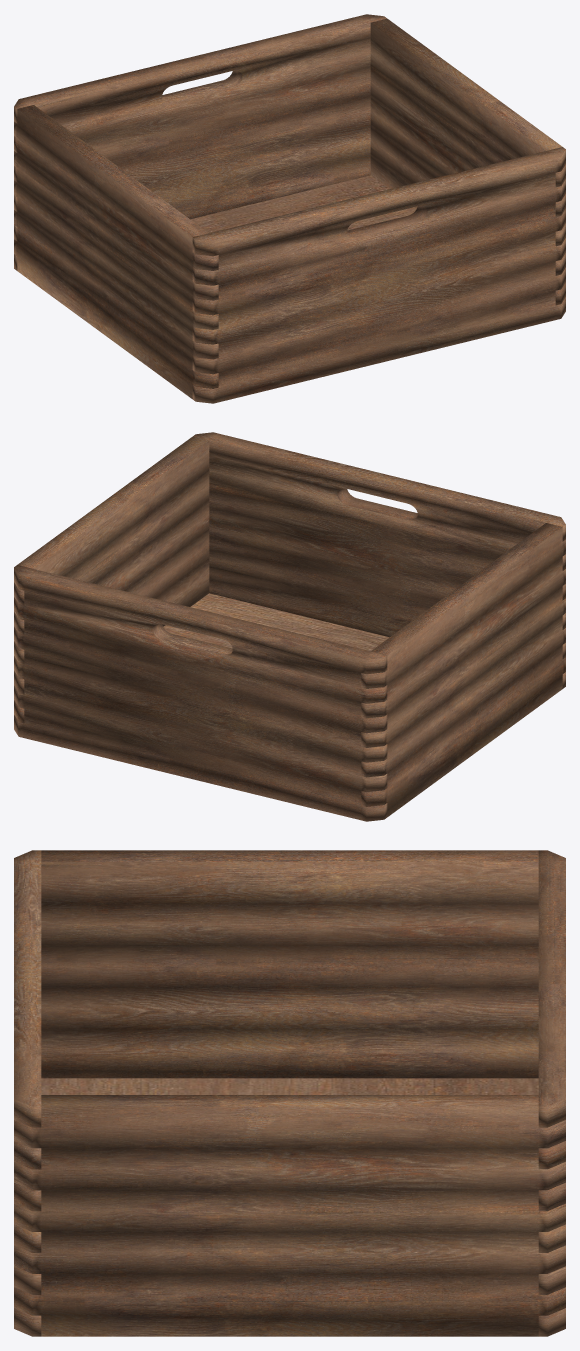
3 renders of one model, top to bottom at view 1: azimuth 30°, elevation 25°; view 2: azimuth 150°, elevation 25°; view 3: azimuth 270°, elevation 25°, orthographic. The views are drawn at different scales.
Parts seen in each view (by area): view 1: Wooden storage box; view 2: Wooden storage box; view 3: Wooden storage box.
Boxes of the visible parts, left/top/right/bottom form: Wooden storage box: left=14, top=14, right=565, bottom=403; Wooden storage box: left=14, top=432, right=565, bottom=821; Wooden storage box: left=14, top=850, right=565, bottom=1336.
Bounding box in the file's own units: 0.2091 × 0.0875 × 0.1904.
2 materials, 2 textured.
